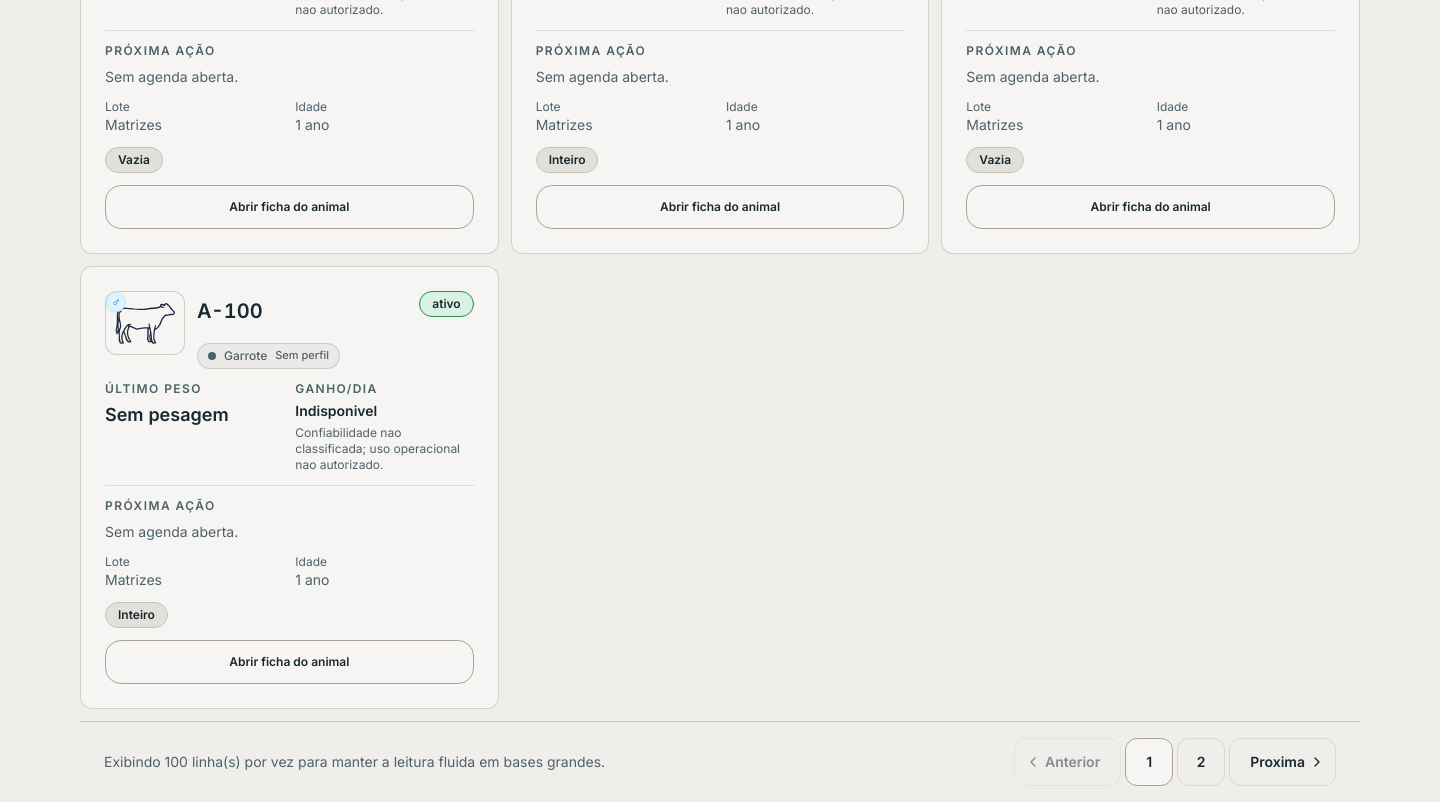
it: Animais page › pagina o recorte quando a tabela excede cem animais
(page scrolled)
Expected: the link named "Ir para a pagina 1" is shown, [1125,738,1173,786]
Expected: the text "A-101" is not shown
Click the link "Proxima" at [1283, 762], box [1229,738,1336,786]
(page scrolled)
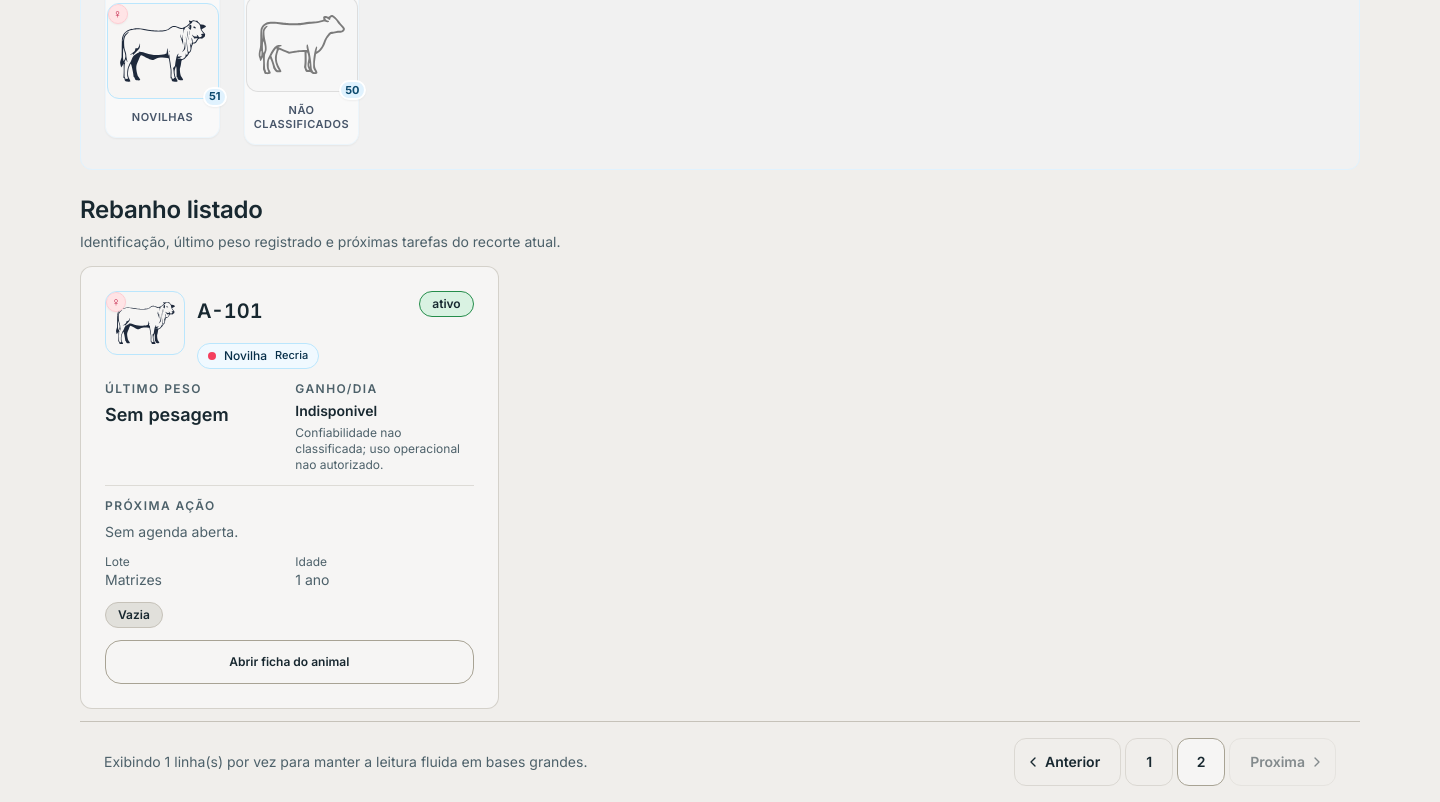
Expected: the link named "Ir para a pagina 2" is shown, [1177,738,1225,786]
Expected: the link "A-101" is shown, [197,298,263,322]
